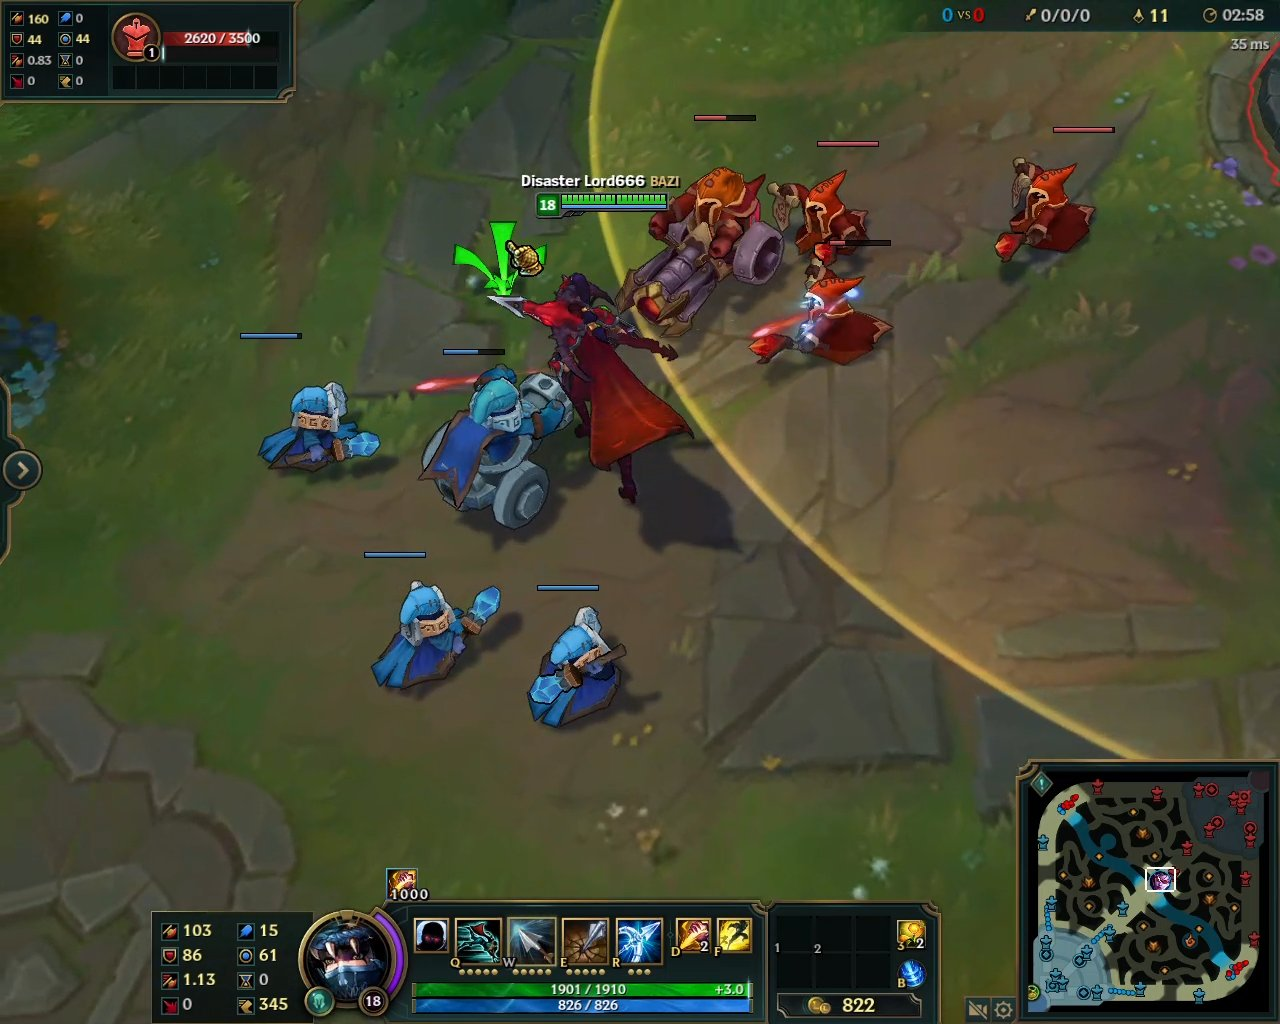EnemyMinion: (612, 115, 781, 342), (992, 120, 1124, 273), (748, 236, 898, 369), (771, 141, 883, 257)
Vayne: (484, 266, 696, 515)
